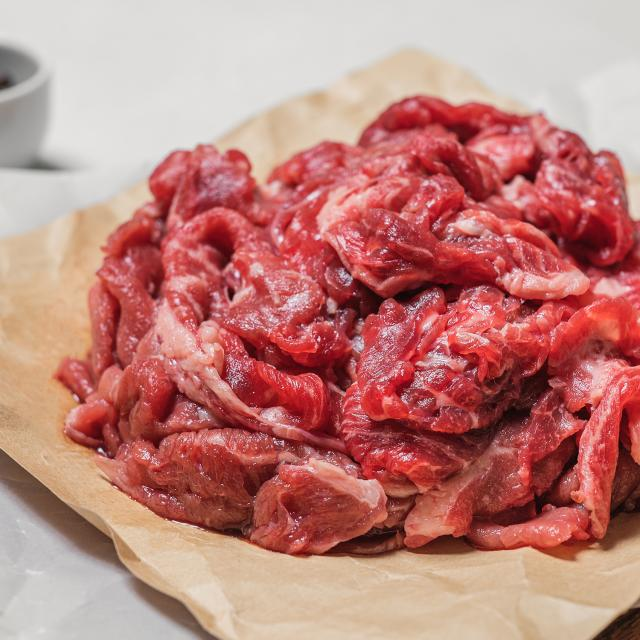beef: (149, 152, 556, 534)
